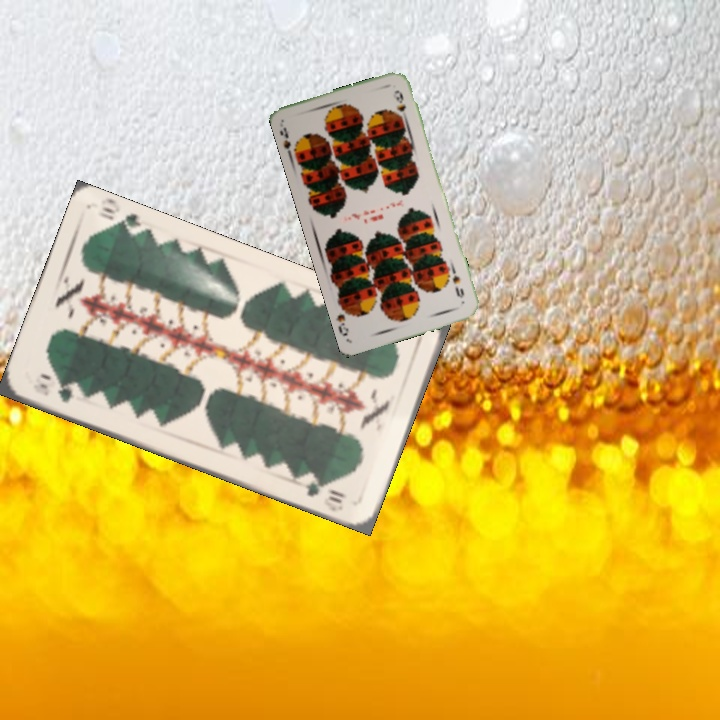G10: (36, 379, 76, 405)
S9: (276, 123, 302, 161), (445, 265, 467, 301)
